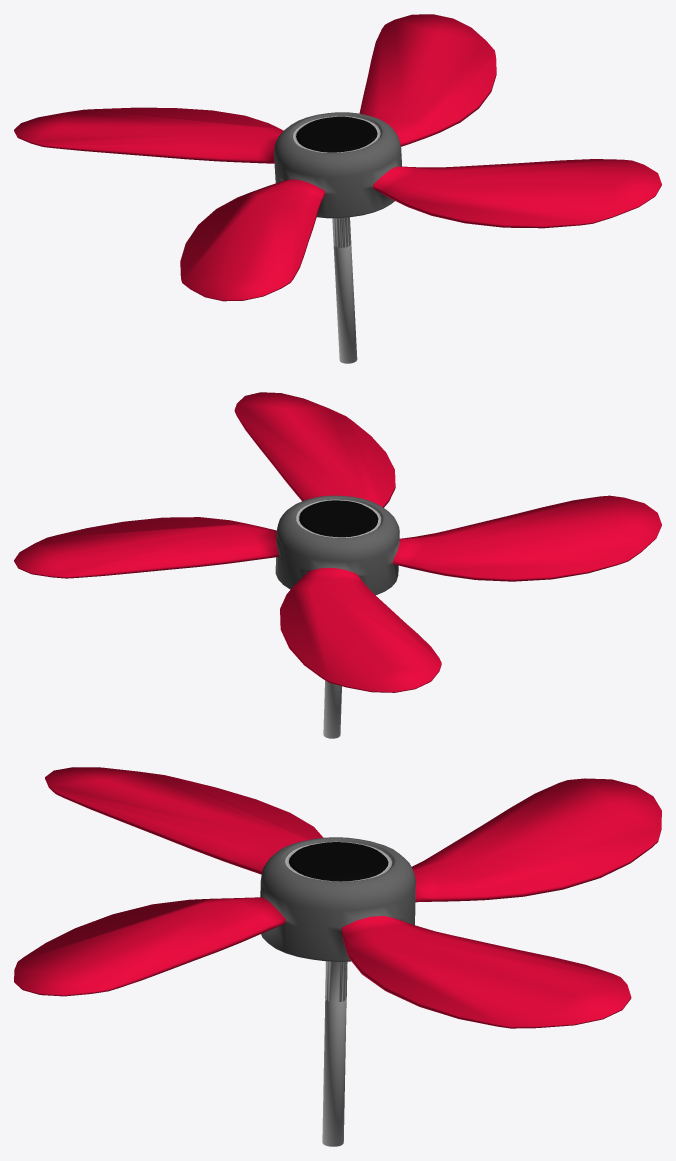
File: drone-propeller.glb
3 renders of one model, top to bottom at view 1: azimuth 30°, elevation 25°; view 2: azimuth 150°, elevation 25°; view 3: azimuth 270°, elevation 25°, orthographic. The views are drawn at different scales.
Parts seen in each view (by area): view 1: Propeller; view 2: Propeller; view 3: Propeller.
Boxes of the visible parts, box(x1,y1,x2,y2) form: Propeller: box(14, 14, 661, 363); Propeller: box(14, 392, 661, 738); Propeller: box(14, 767, 661, 1146).
Bounding box in the file's own units: 1.35 × 0.6417 × 1.35.
